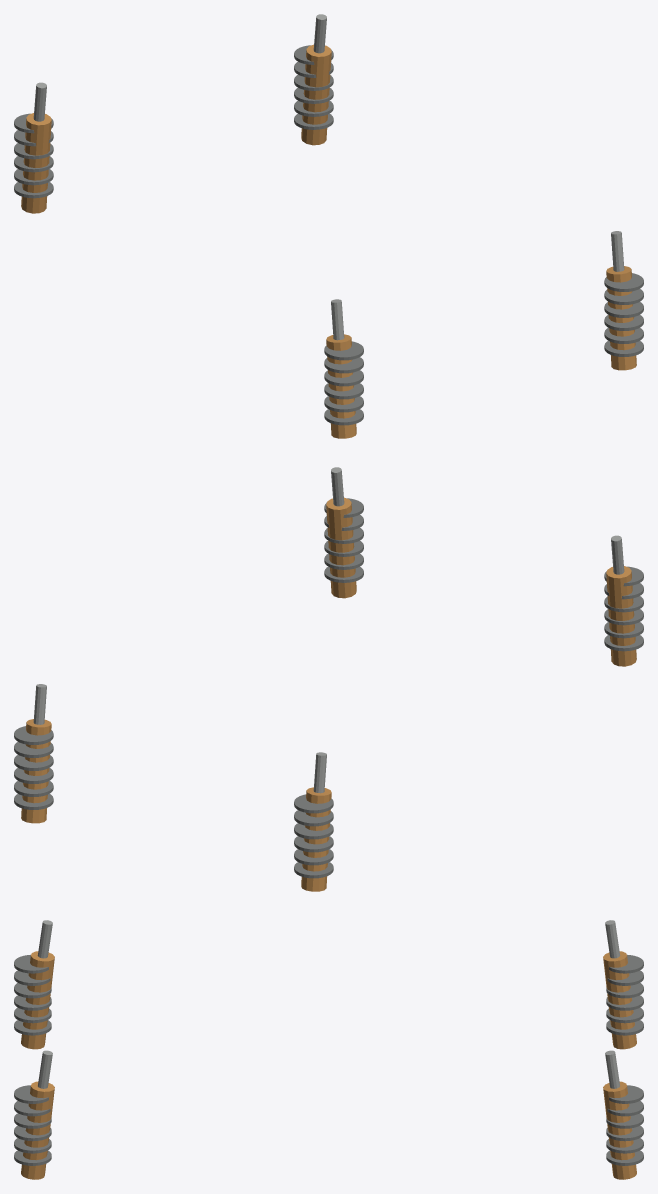
Rendered from PART_006_TrailShockSet.glb.
The picture shows the model from 3 angles, top to bottom: view 1: azimuth 30°, elevation 25°; view 2: azimuth 150°, elevation 25°; view 3: azimuth 270°, elevation 25°; orthographic projection. The views are drawn at different scales.
Parts seen in each view (by area): view 1: RR_ShockBody, RL_ShockBody, FL_ShockBody, FR_ShockBody; view 2: FR_ShockBody, FL_ShockBody, RL_ShockBody, RR_ShockBody; view 3: FL_ShockBody, RL_ShockBody, FR_ShockBody, RR_ShockBody, FR_ShockRod, RR_ShockRod, FL_ShockRod, RL_ShockRod, FL_SpringRing_5, RL_SpringRing_5.
Boxes of the visible parts, x1,y1,x2,y2 form: RR_ShockBody: (301,44,331,145); RL_ShockBody: (21,113,51,213); FL_ShockBody: (326,334,356,438); FR_ShockBody: (606,266,636,370); FR_ShockBody: (326,497,356,598); FL_ShockBody: (606,566,636,666); RL_ShockBody: (301,787,331,891); RR_ShockBody: (21,719,51,823); FL_ShockBody: (21,951,54,1049); RL_ShockBody: (603,951,636,1049); FR_ShockBody: (21,1081,54,1179); RR_ShockBody: (603,1081,636,1179); FR_ShockRod: (38,1050,52,1088); RR_ShockRod: (605,1050,619,1088); FL_ShockRod: (37,920,52,958); RL_ShockRod: (605,920,620,958); FL_SpringRing_5: (14,954,48,973); RL_SpringRing_5: (609,954,643,973).
Size of the model in its own units: 1.39 by 0.5477 by 2.53.
